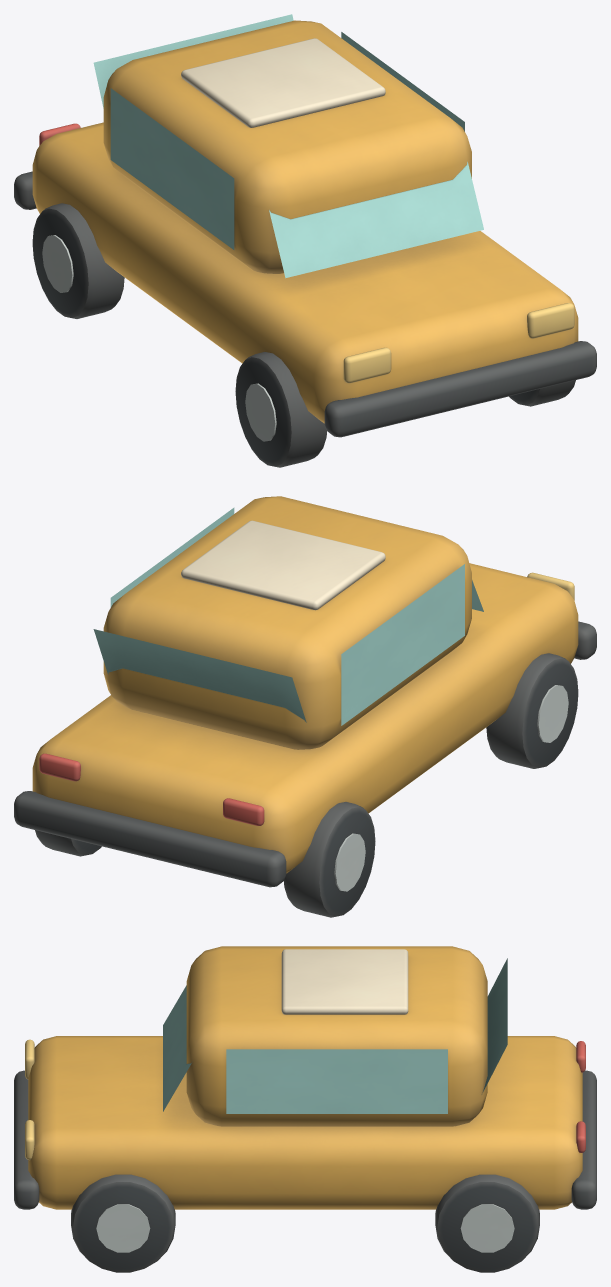
Rendered from TrafficCarYellow.fbx.
3 views of the same model, one above another, from view 1: azimuth 30°, elevation 25°; view 2: azimuth 150°, elevation 25°; view 3: azimuth 270°, elevation 25° (orthographic). The views are drawn at different scales.
Visible parts, largest first — view 1: TrafficCarYellow; view 2: TrafficCarYellow; view 3: TrafficCarYellow.
Part boxes in pixels (box(x1,y1,x2,y2)): TrafficCarYellow: box(14, 14, 596, 467); TrafficCarYellow: box(14, 496, 596, 917); TrafficCarYellow: box(14, 946, 596, 1272).
Size of the model in its own units: 192 by 163 by 368.
